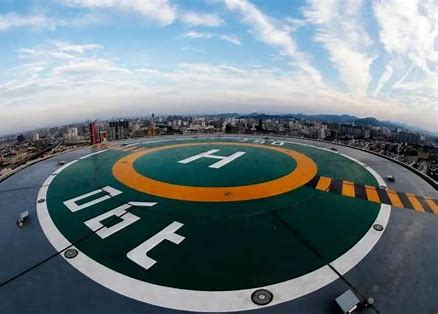H: (178, 149, 247, 169)
